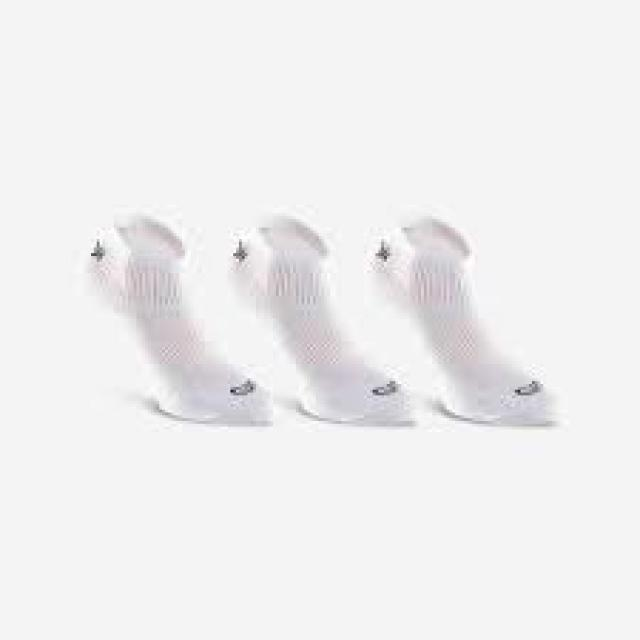sock: (85, 208, 273, 424), (367, 213, 557, 424), (228, 210, 415, 424)
